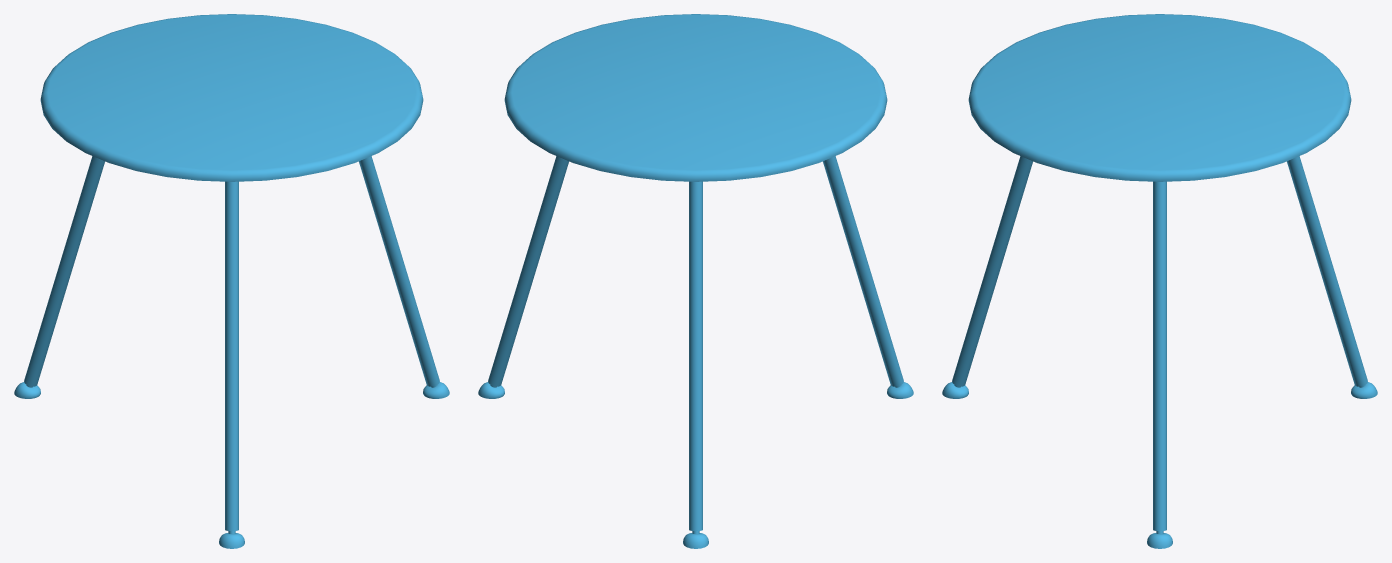
File: Table_1.fbx
3 views of the same model, side by side, from view 1: azimuth 30°, elevation 25°; view 2: azimuth 150°, elevation 25°; view 3: azimuth 270°, elevation 25° (orthographic).
Parts seen in each view (by area): view 1: Table_1; view 2: Table_1; view 3: Table_1.
Part boxes in pixels (left/top/right/bottom): Table_1: left=14, top=14, right=449, bottom=548; Table_1: left=478, top=14, right=913, bottom=548; Table_1: left=942, top=14, right=1377, bottom=548.
Bounding box in the file's own units: 71.86 × 63.11 × 70.99.
